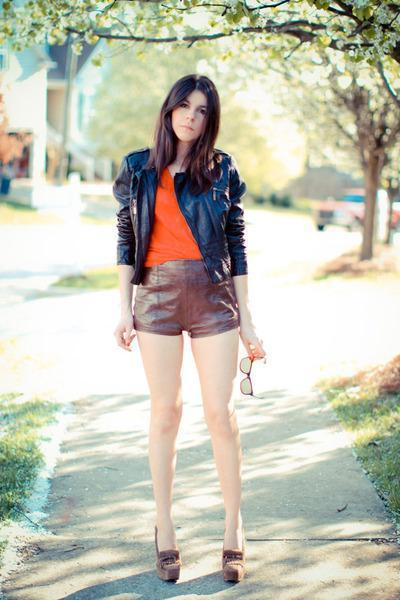Shorts: (123, 259, 242, 339)
jacket: (110, 144, 261, 273)
short sleeve shirt: (141, 165, 213, 275)
